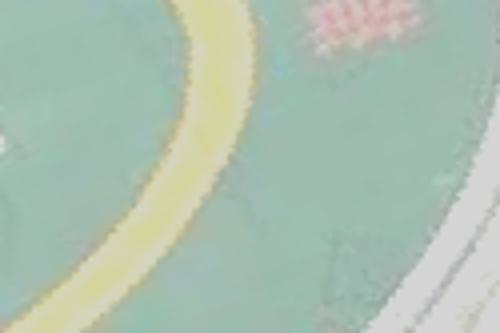Apron: (1, 1, 261, 330)
